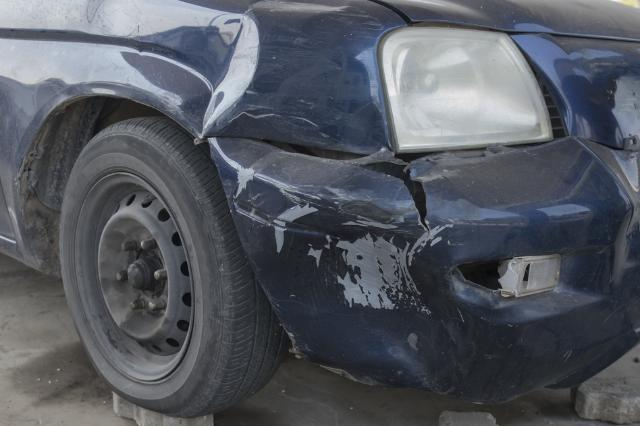Bumper: (217, 138, 640, 408)
Fender: (46, 0, 403, 146)
